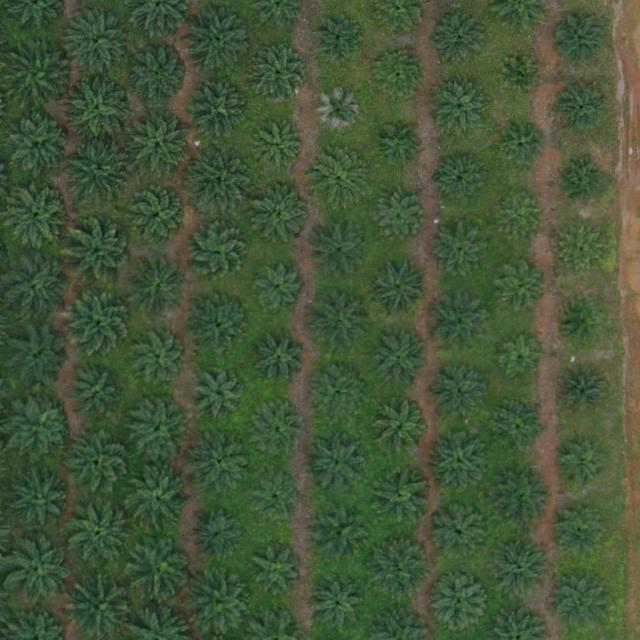Dead: (317, 89, 364, 136)
Healthy: (62, 75, 133, 146), (67, 136, 138, 207), (184, 5, 255, 76), (5, 39, 75, 110), (61, 8, 131, 79), (184, 146, 254, 217), (65, 287, 135, 358), (5, 535, 75, 606), (64, 497, 134, 568), (64, 219, 134, 289), (9, 113, 72, 176), (369, 465, 432, 528), (127, 256, 190, 319), (9, 396, 72, 459), (7, 468, 70, 531), (369, 534, 432, 597), (429, 572, 492, 635), (129, 116, 192, 178), (188, 78, 250, 141), (312, 146, 374, 209), (490, 468, 553, 530), (426, 293, 488, 356), (367, 187, 429, 250), (367, 256, 429, 319), (308, 218, 370, 281), (310, 290, 372, 353), (307, 432, 369, 495), (250, 183, 313, 245), (187, 222, 250, 284), (190, 294, 252, 357), (191, 431, 253, 494), (127, 185, 190, 247), (128, 398, 190, 461), (128, 471, 190, 534), (68, 432, 130, 495), (5, 185, 67, 248), (3, 255, 65, 318), (9, 328, 71, 391), (310, 501, 372, 564), (493, 538, 555, 601), (128, 43, 190, 105), (428, 430, 490, 492), (129, 536, 191, 598), (190, 574, 252, 636), (372, 49, 427, 105), (433, 83, 488, 138), (436, 154, 491, 209), (554, 13, 609, 68), (554, 83, 609, 138), (494, 401, 549, 456), (433, 225, 488, 280), (432, 366, 487, 421), (372, 333, 427, 388), (374, 403, 429, 458), (253, 264, 308, 319), (194, 366, 249, 421), (71, 366, 126, 421), (311, 578, 366, 633), (433, 507, 488, 562), (554, 503, 609, 558), (554, 575, 609, 630), (253, 49, 307, 104), (433, 14, 487, 69), (312, 371, 366, 426), (133, 331, 187, 386), (257, 122, 304, 170), (257, 406, 304, 454), (196, 512, 243, 560), (255, 545, 302, 593), (316, 18, 363, 65), (496, 192, 543, 239), (258, 337, 305, 384), (252, 478, 299, 525)
Small: (373, 116, 428, 171), (492, 258, 547, 313), (554, 440, 609, 495), (557, 366, 611, 421), (501, 123, 548, 170), (499, 337, 546, 384), (557, 225, 604, 272), (561, 157, 608, 204), (502, 57, 541, 97), (560, 302, 599, 341)
